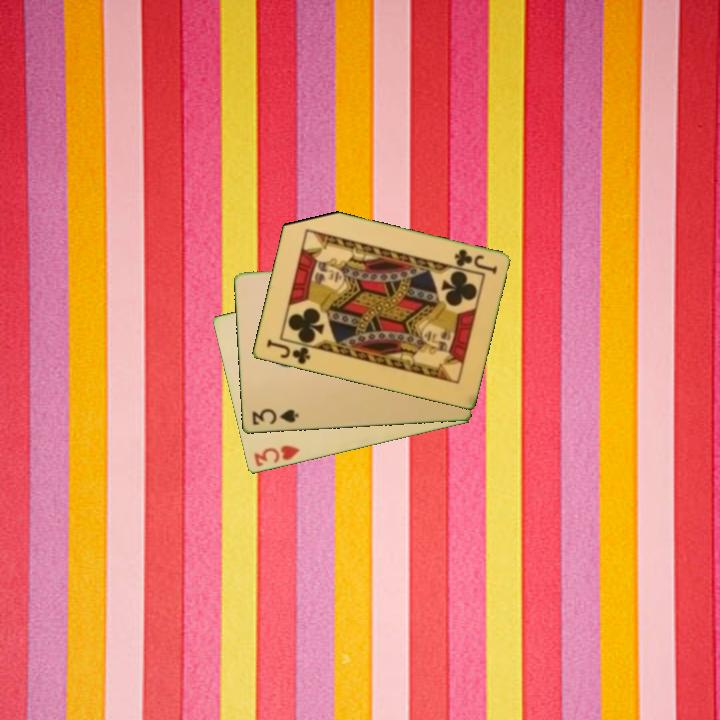3h: (250, 442, 302, 470)
3s: (248, 406, 301, 428)
Jc: (262, 336, 313, 367), (450, 246, 500, 277)
